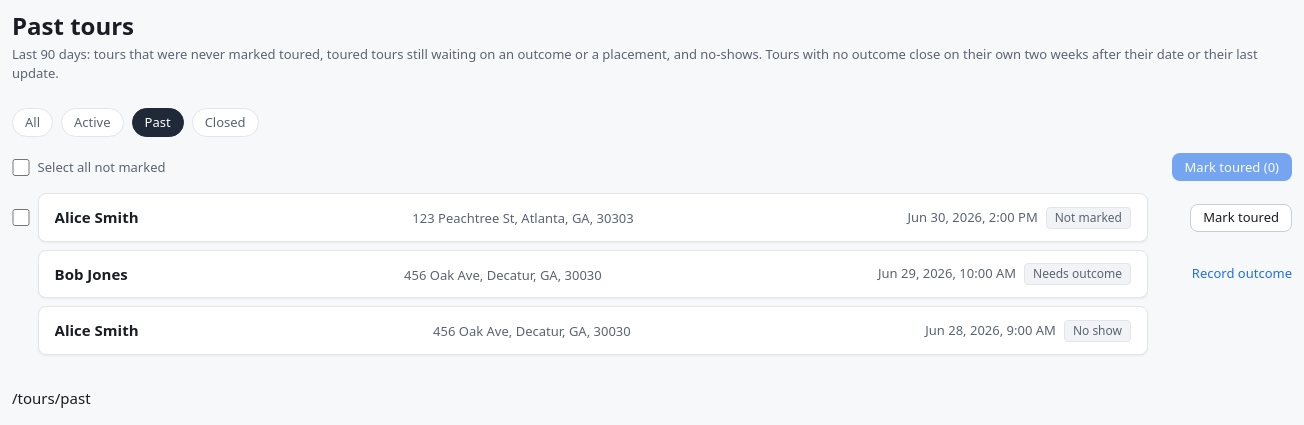
Test: ToursPage - Past view › rows: date + time, tenant, property, plain-words state, date-time in the label, and the row link carrying state.back
Expected: the number of list items is 3, top-left (12, 193), bottom-right (1292, 242); top-left (12, 250), bottom-right (1292, 298); top-left (12, 306), bottom-right (1292, 355)
Expected: the link named ", Needs outcome" is shown, top-left (38, 250), bottom-right (1148, 298)
Note: The row link carries the back pointer.
Click the link with aria-label "Tour for Alice Smith at 123 Peachtree St, Atlanta, GA, 30303": (593, 218) top-left (38, 193), bottom-right (1148, 242)
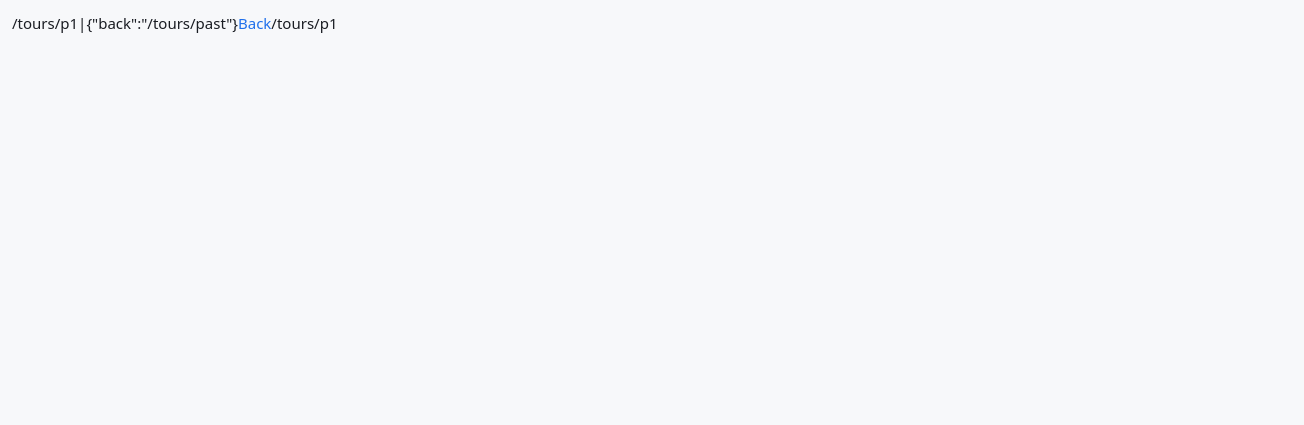
Expected: the text with test id "loc" reads "/tours/p1|{\"back\":\"/tours/past\"}", top-left (12, 13), bottom-right (78, 33)
